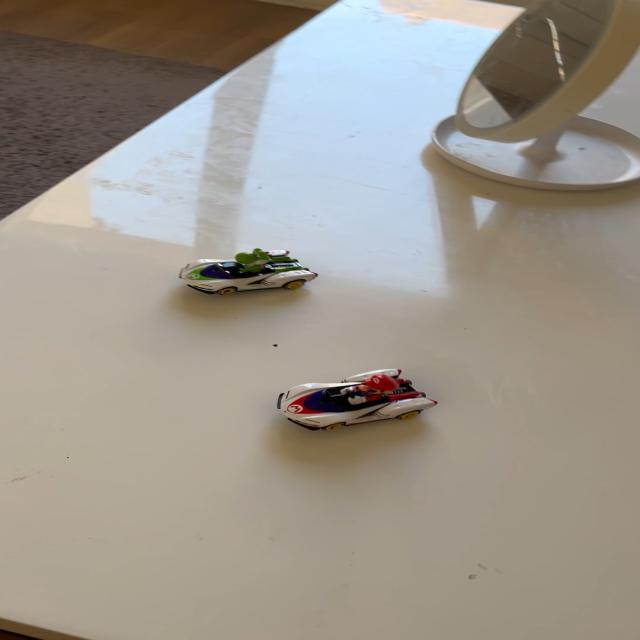mario: (265, 370, 450, 436)
yoshi: (166, 239, 326, 301)
